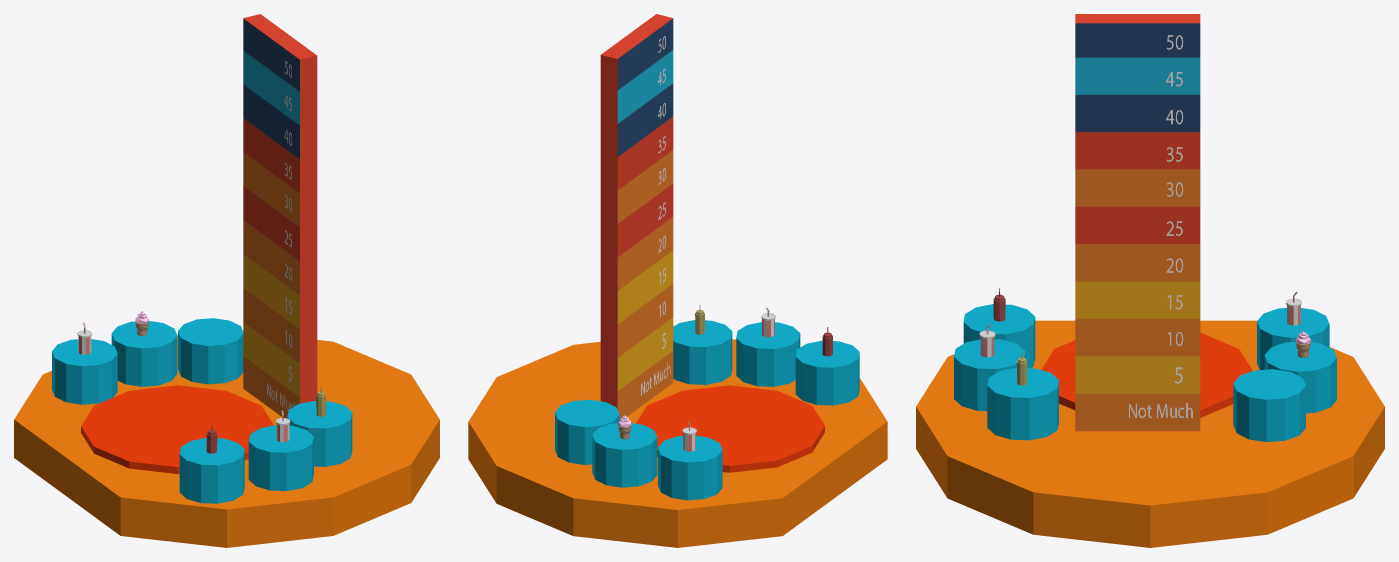
File: score1 (1).fbx
3 views of the same model, side by side, from view 1: azimuth 30°, elevation 25°; view 2: azimuth 150°, elevation 25°; view 3: azimuth 270°, elevation 25° (orthographic). The views are drawn at different scales.
Visible parts, largest first — view 1: Cylinder.004, Cylinder.005, Cylinder.021, Cylinder.046, Cylinder.030, Cylinder.022, Cylinder.044, Cylinder.020, Cylinder.027, Cylinder.047, Cylinder.045, Cylinder.007; view 2: Cylinder.004, Cylinder.005, Cylinder.022, Cylinder.030, Cylinder.045, Cylinder.020, Cylinder.046, Cylinder.021, Cylinder.027, Cylinder.047, Cylinder.044, Cylinder.007; view 3: Cylinder.004, Cylinder.005, Cylinder.046, Cylinder.007, Cylinder.027, Cylinder.030, Cylinder.044, Cylinder.045, Cylinder.047, Cylinder.020, Cylinder.021, Cylinder.022.
Boxes of the visible parts, x1,y1,x2,y2 form: Cylinder.004: [14, 318, 439, 547]; Cylinder.005: [243, 14, 317, 93]; Cylinder.021: [243, 288, 317, 362]; Cylinder.046: [243, 86, 317, 160]; Cylinder.030: [243, 187, 317, 261]; Cylinder.022: [243, 254, 317, 328]; Cylinder.044: [243, 153, 317, 227]; Cylinder.020: [243, 321, 317, 396]; Cylinder.027: [243, 220, 317, 295]; Cylinder.047: [243, 52, 317, 126]; Cylinder.045: [243, 119, 317, 194]; Cylinder.007: [243, 355, 317, 418]; Cylinder.004: [468, 320, 887, 547]; Cylinder.005: [600, 14, 673, 91]; Cylinder.022: [600, 250, 673, 323]; Cylinder.030: [600, 184, 673, 257]; Cylinder.045: [600, 118, 673, 191]; Cylinder.020: [600, 317, 673, 390]; Cylinder.046: [600, 85, 673, 158]; Cylinder.021: [600, 284, 673, 357]; Cylinder.027: [600, 217, 673, 290]; Cylinder.047: [600, 52, 673, 125]; Cylinder.044: [600, 151, 673, 224]; Cylinder.007: [600, 350, 673, 420]; Cylinder.004: [916, 304, 1384, 547]; Cylinder.005: [1075, 14, 1200, 60]; Cylinder.046: [1075, 97, 1200, 134]; Cylinder.007: [1075, 394, 1200, 431]; Cylinder.027: [1075, 245, 1200, 282]; Cylinder.030: [1075, 208, 1200, 245]; Cylinder.044: [1075, 171, 1200, 208]; Cylinder.045: [1075, 134, 1200, 171]; Cylinder.047: [1075, 60, 1200, 97]; Cylinder.020: [1075, 357, 1200, 393]; Cylinder.021: [1075, 320, 1200, 356]; Cylinder.022: [1075, 283, 1200, 319].
Size of the model in its own units: 8.72 by 10.02 by 9.35.
9 materials, 3 textured.
